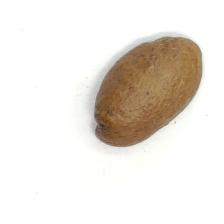NG: (93, 103, 108, 140)
